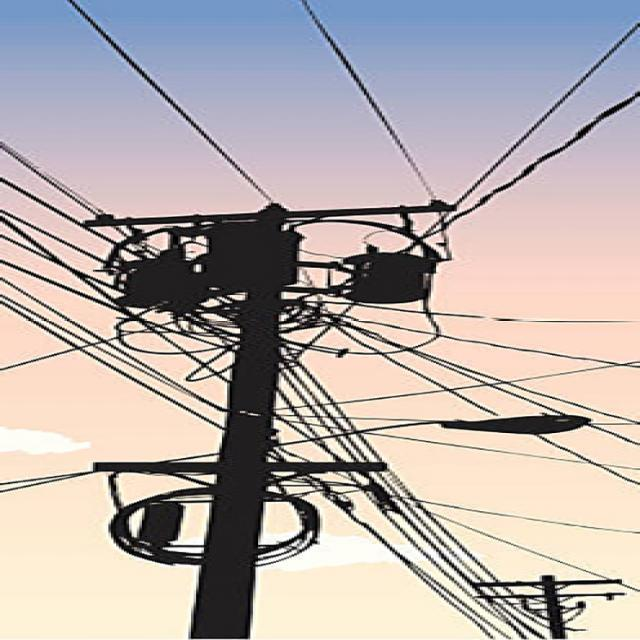pole: (0, 184, 491, 639)
